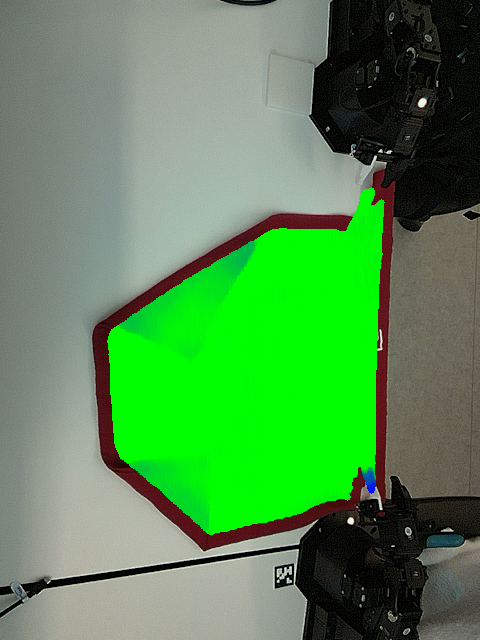V: (169, 325, 215, 366), (179, 445, 220, 483)
